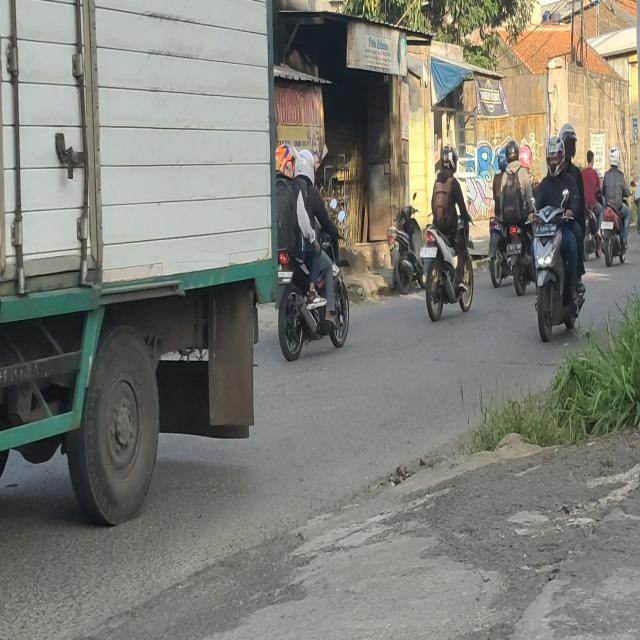helmet: (275, 144, 297, 180), (546, 136, 565, 174), (298, 151, 315, 184), (560, 124, 576, 157), (441, 143, 458, 173), (520, 145, 532, 169), (506, 142, 519, 164), (610, 148, 621, 168), (498, 148, 506, 170)
no-helmet: (587, 150, 595, 167)
